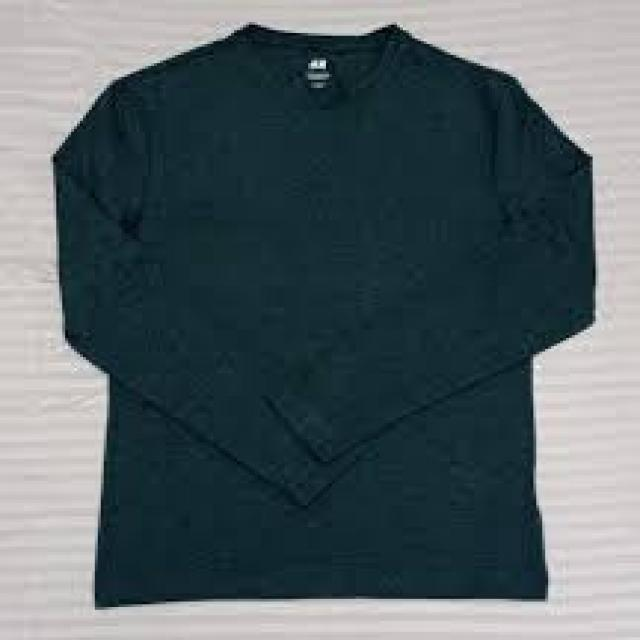plain: (49, 21, 599, 612)
